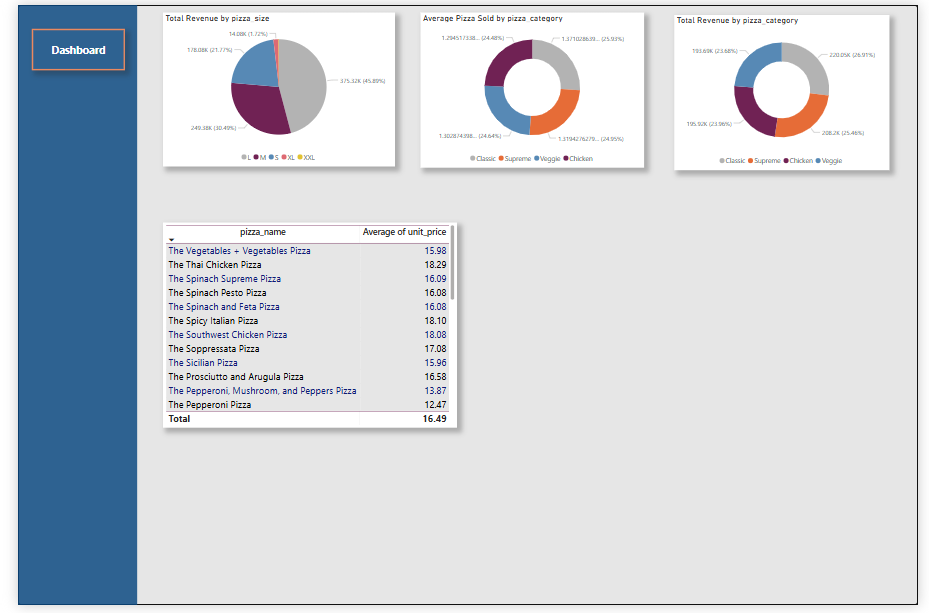

Layout of this report page (visuals, bound fields, positions):
{"tool":"powerbi","page":{"name":"Dashboard","canvas":[1800,1200],"ordinal":1},"visuals":[{"type":"group","id":"g1","title":"Group 2","box":[290,16,1452,314],"z":0},{"type":"tableEx","fields":{"Values":["pizza_sales.pizza_name","Avg(pizza_sales.unit_price)"]},"box":[290,436,588,410],"z":1000},{"type":"shape","box":[0,0,238.3,1200],"z":2000},{"type":"actionButton","box":[26.7,46.7,186.7,83.3],"z":3000},{"type":"pieChart","fields":{"Category":["pizza_sales.pizza_size"],"Y":["pizza_sales.Total Revenue"]},"box":[290,16,463.9,308.3],"z":4000,"group":"g1"},{"type":"donutChart","fields":{"Category":["pizza_sales.pizza_category"],"Y":["pizza_sales.Total Revenue"]},"box":[1312,20,430,310],"z":5000,"group":"g1"},{"type":"donutChart","fields":{"Category":["pizza_sales.pizza_category"],"Y":["pizza_sales.Average Pizza Sold"]},"box":[805.9,16,447.2,310],"z":6000,"group":"g1"}]}

Visuals, with their boxes in screenshot pixels (x1, y1, x2, y2), scaled from the page's 1800x1200 canvas onto the 929x613 screenshot:
"Group 2" group: <region>150, 8, 899, 169</region>
tableEx - pizza_sales.pizza_name x Avg(pizza_sales.unit_price): <region>150, 223, 453, 432</region>
shape: <region>0, 0, 123, 612</region>
actionButton: <region>14, 24, 110, 66</region>
pieChart - pizza_sales.pizza_size x pizza_sales.Total Revenue: <region>150, 8, 389, 166</region>
donutChart - pizza_sales.pizza_category x pizza_sales.Total Revenue: <region>677, 10, 899, 169</region>
donutChart - pizza_sales.pizza_category x pizza_sales.Average Pizza Sold: <region>416, 8, 647, 167</region>
